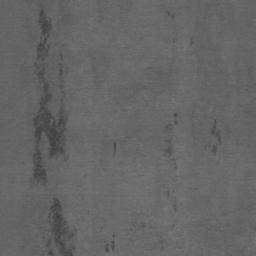Iron scale compression: (29, 7, 69, 188), (46, 197, 77, 256), (162, 113, 177, 166), (211, 119, 221, 156), (105, 240, 115, 254), (166, 11, 175, 21), (113, 143, 117, 156)
